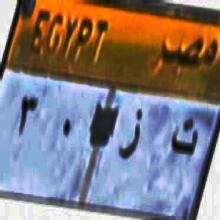0: (61, 110, 74, 142)
3: (18, 90, 38, 142)
taa: (170, 107, 197, 168)
zay: (117, 101, 144, 171)
